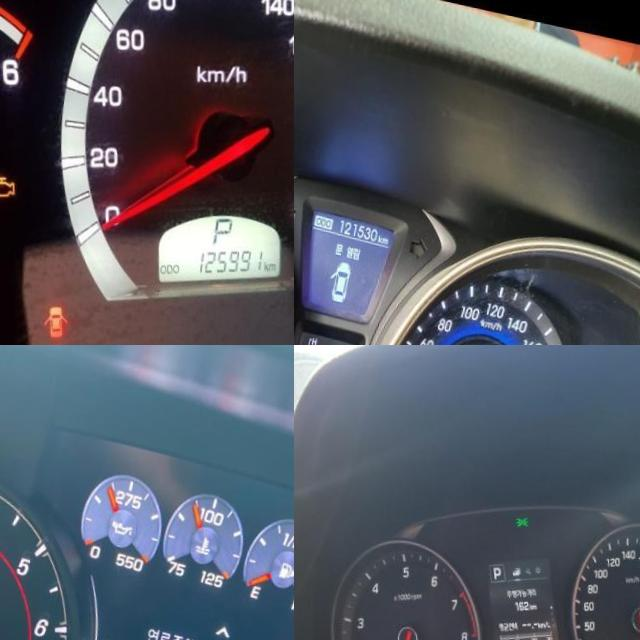Doors: (45, 296, 74, 333)
SideLamp: (516, 509, 531, 523)
